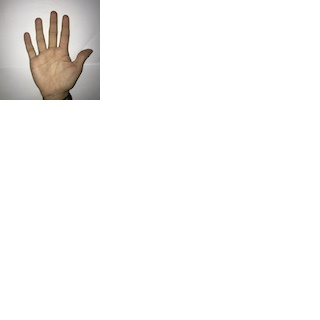paper: (21, 5, 93, 96)
